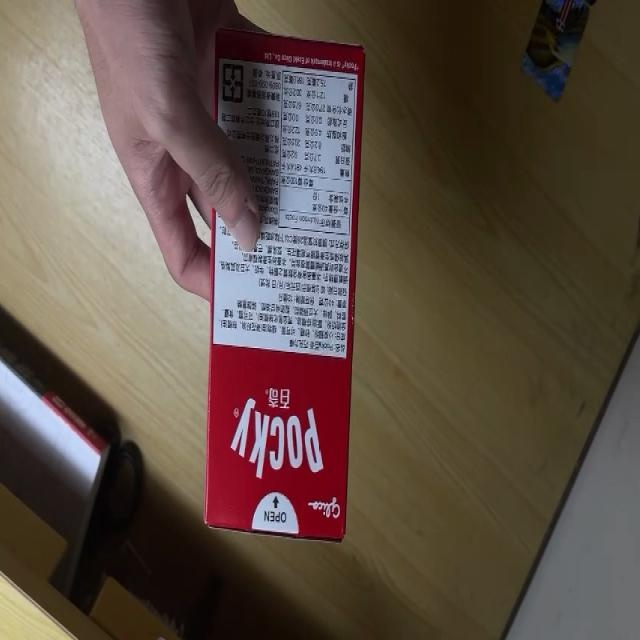Pocky: (202, 26, 368, 542)
